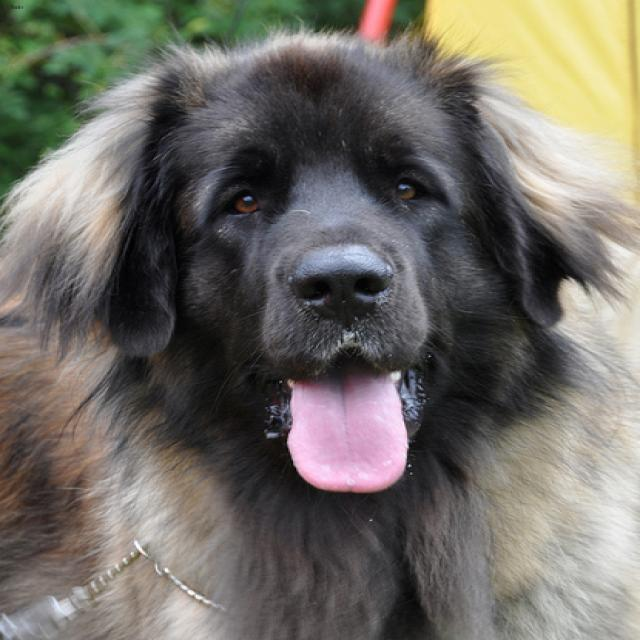dog-leonberger: (2, 20, 637, 637)
